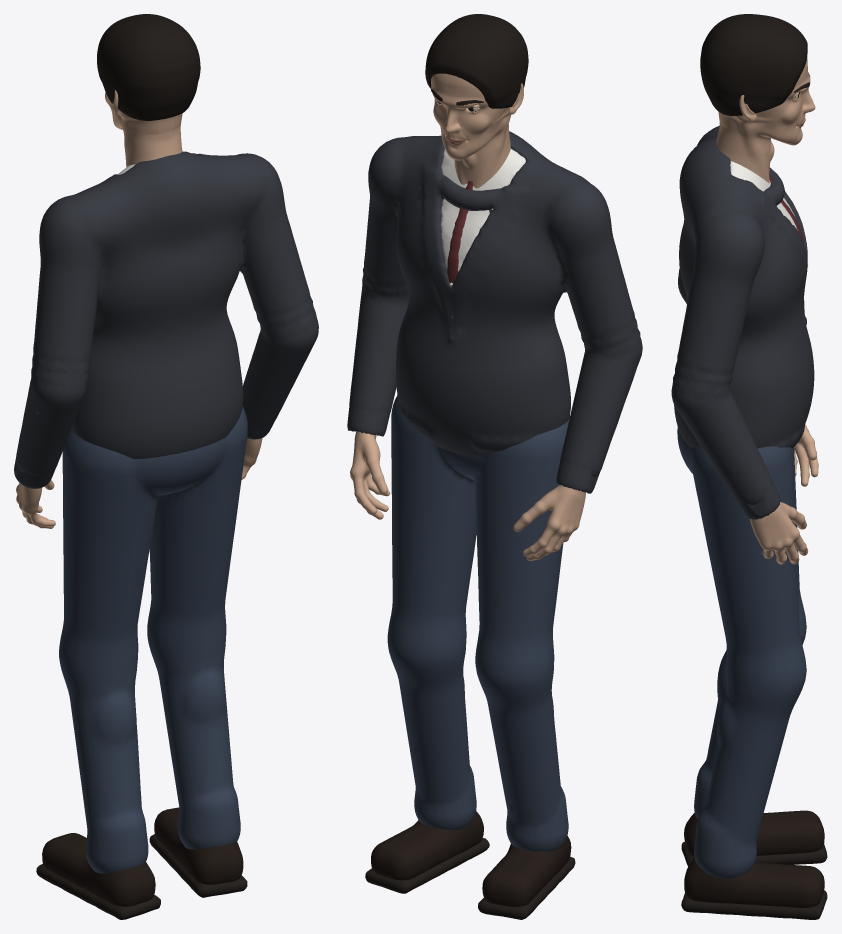
Rendered from suit_wet.glb.
The picture shows the model from 3 angles, left to right: view 1: azimuth 30°, elevation 25°; view 2: azimuth 150°, elevation 25°; view 3: azimuth 270°, elevation 25°; orthographic projection.
Parts seen in each view (by area): view 1: suit_wet_body, suit_wet_head, suit_wet_hands; view 2: suit_wet_body, suit_wet_head, suit_wet_hands; view 3: suit_wet_body, suit_wet_head, suit_wet_hands.
Boxes of the visible parts, box(x1,y1,x2,y2) form: suit_wet_body: box(16, 151, 318, 919); suit_wet_head: box(97, 14, 200, 167); suit_wet_hands: box(14, 421, 274, 528); suit_wet_body: box(349, 131, 642, 919); suit_wet_head: box(425, 14, 528, 188); suit_wet_hands: box(347, 406, 599, 560); suit_wet_body: box(671, 125, 827, 919); suit_wet_head: box(700, 14, 815, 183); suit_wet_hands: box(736, 424, 818, 564).
Bounding box in the file's own units: 0.6009 × 1.78 × 0.292.
